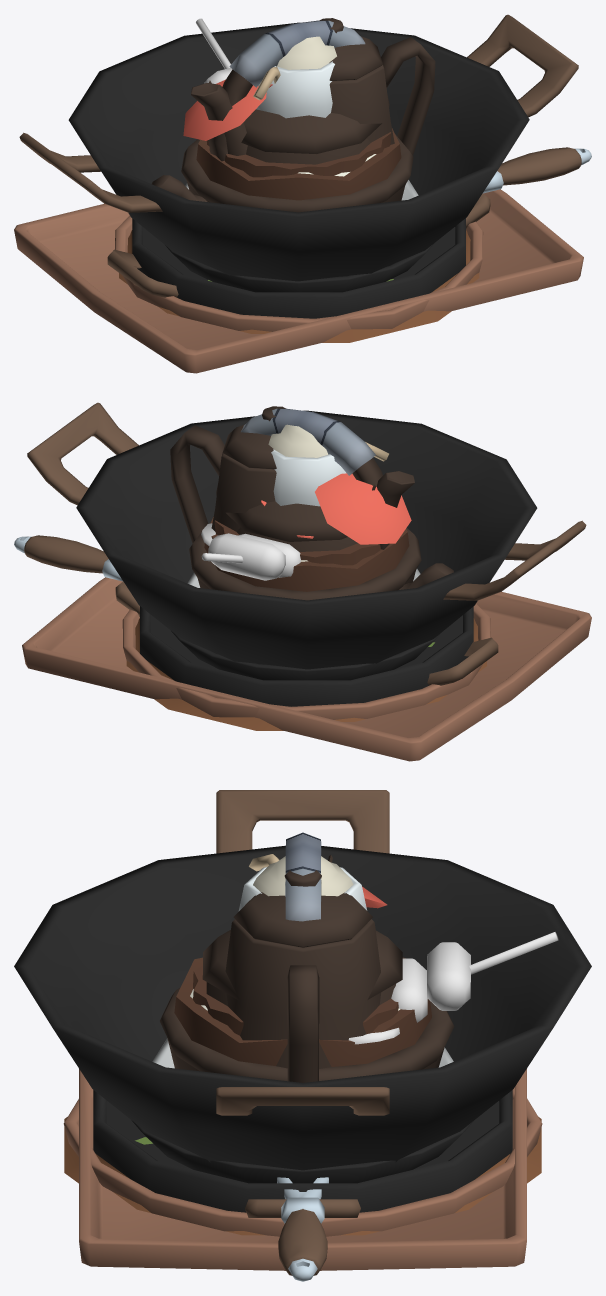
Rendered from goblet.fbx.
The picture shows the model from 3 angles, top to bottom: view 1: azimuth 30°, elevation 25°; view 2: azimuth 150°, elevation 25°; view 3: azimuth 270°, elevation 25°; orthographic projection. The views are drawn at different scales.
Visible parts, largest first — view 1: pot_1, tray_square_1, pot_2, teapot_1, teapot_2, pan, tray_round_1, coconut_cup, bowl_3, pokal_1, coconut_cup_lace, juice_umbrella (+2 smaller); view 2: pot_1, tray_square_1, pot_2, teapot_2, teapot_1, pan, tray_round_1, juice_umbrella, bowl_3, coconut_cup, soup_002, pokal_1 (+2 smaller); view 3: pot_1, tray_square_1, teapot_2, pot_2, tray_round_1, pan, coconut_cup, bowl_3, teapot_1, soup_002, coconut_cup_lace, milk_foam_middle (+1 smaller).
Boxes of the visible parts, left/top/right/bottom form: pot_1: left=19, top=14, right=578, bottom=281; tray_square_1: left=14, top=189, right=583, bottom=373; pot_2: left=107, top=193, right=490, bottom=342; teapot_1: left=152, top=20, right=389, bottom=201; teapot_2: left=191, top=18, right=435, bottom=155; pan: left=165, top=147, right=591, bottom=292; tray_round_1: left=115, top=215, right=483, bottom=331; coconut_cup: left=196, top=128, right=401, bottom=200; bowl_3: left=181, top=134, right=413, bottom=212; pokal_1: left=256, top=61, right=334, bottom=118; coconut_cup_lace: left=206, top=132, right=391, bottom=177; juice_umbrella: left=183, top=79, right=266, bottom=140; pot_1: left=27, top=402, right=586, bottom=669; tray_square_1: left=22, top=577, right=591, bottom=761; pot_2: left=115, top=581, right=498, bottom=730; teapot_2: left=170, top=406, right=414, bottom=543; teapot_1: left=216, top=408, right=453, bottom=589; pan: left=14, top=535, right=440, bottom=680; tray_round_1: left=122, top=603, right=490, bottom=719; juice_umbrella: left=315, top=473, right=411, bottom=544; bowl_3: left=189, top=523, right=421, bottom=600; coconut_cup: left=204, top=517, right=409, bottom=591; soup_002: left=201, top=523, right=300, bottom=580; pokal_1: left=271, top=449, right=346, bottom=506; pot_1: left=14, top=790, right=591, bottom=1170; tray_square_1: left=79, top=1069, right=526, bottom=1270; teapot_2: left=225, top=870, right=381, bottom=1082; pot_2: left=64, top=1090, right=541, bottom=1235; tray_round_1: left=63, top=1087, right=542, bottom=1236; pan: left=131, top=1120, right=474, bottom=1281; coconut_cup: left=174, top=957, right=431, bottom=1066; bowl_3: left=160, top=987, right=454, bottom=1081; teapot_1: left=202, top=832, right=402, bottom=1006; soup_002: left=348, top=932, right=558, bottom=1044; coconut_cup_lace: left=193, top=965, right=398, bottom=1035; milk_foam_middle: left=253, top=856, right=353, bottom=896.
Size of the model in its own units: 50.11 by 28.8 by 67.69.
